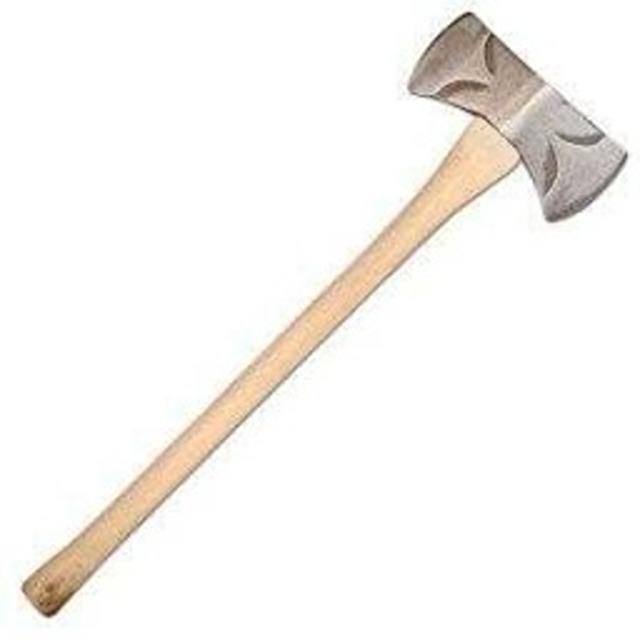ax: (9, 4, 640, 628)
